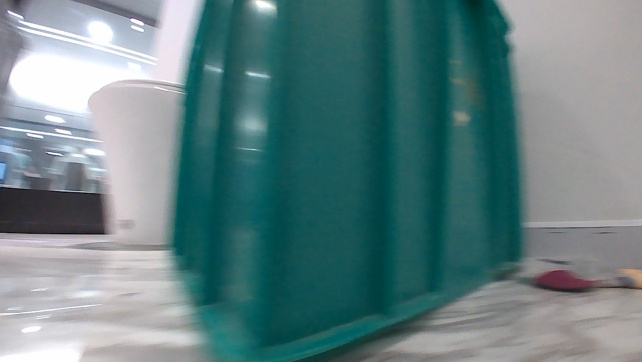socks: (512, 251, 641, 295)
toilet: (85, 74, 185, 250)
